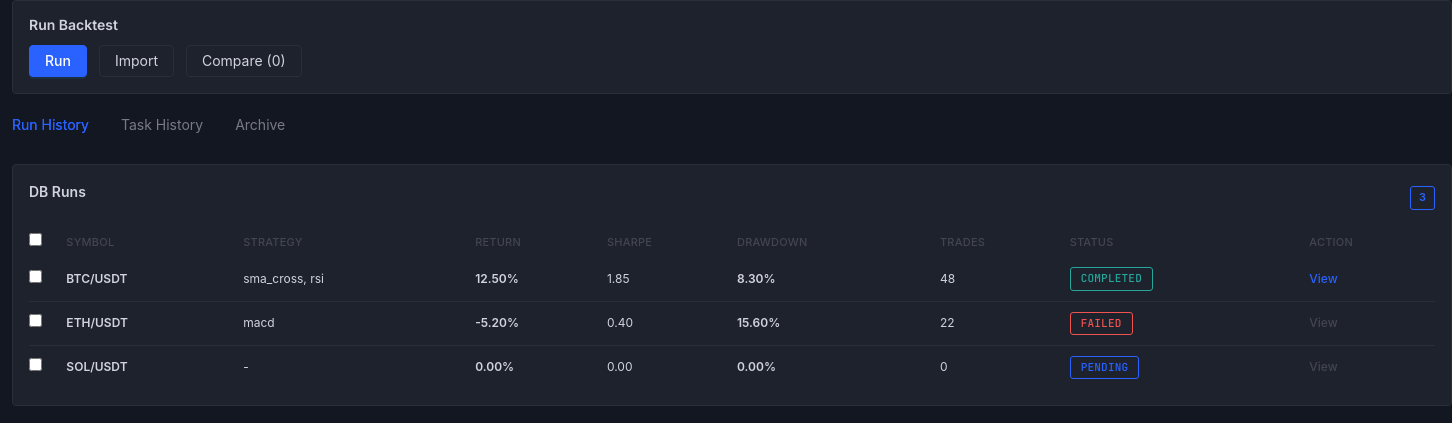
BacktestView › toggles a run checkbox to select it
Step 1. Click the checkbox next to "BTC/USDT" → (36,276), box [29,270,42,283]
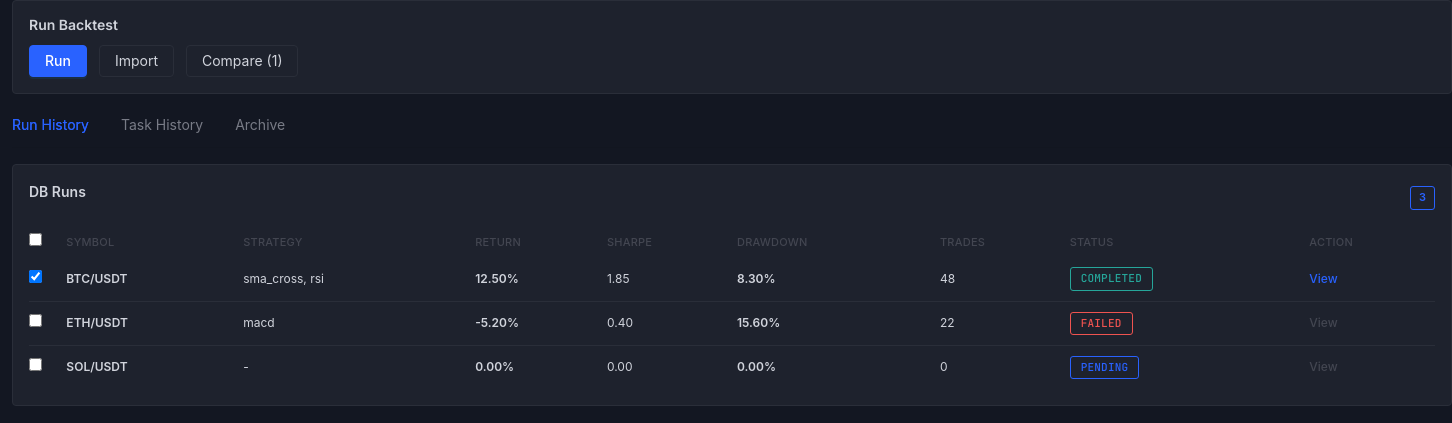
Result: the button "Compare (1)" is shown at [186,45,298,77]
